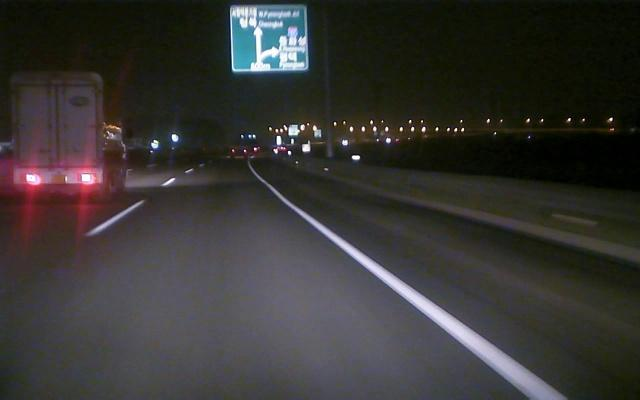lane: (262, 180, 565, 396), (84, 179, 174, 236)
